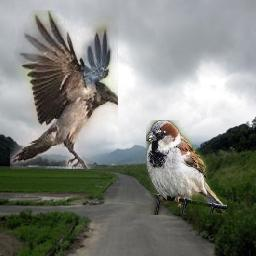Crow: (10, 11, 118, 170)
Sparrow: (147, 121, 228, 216)
